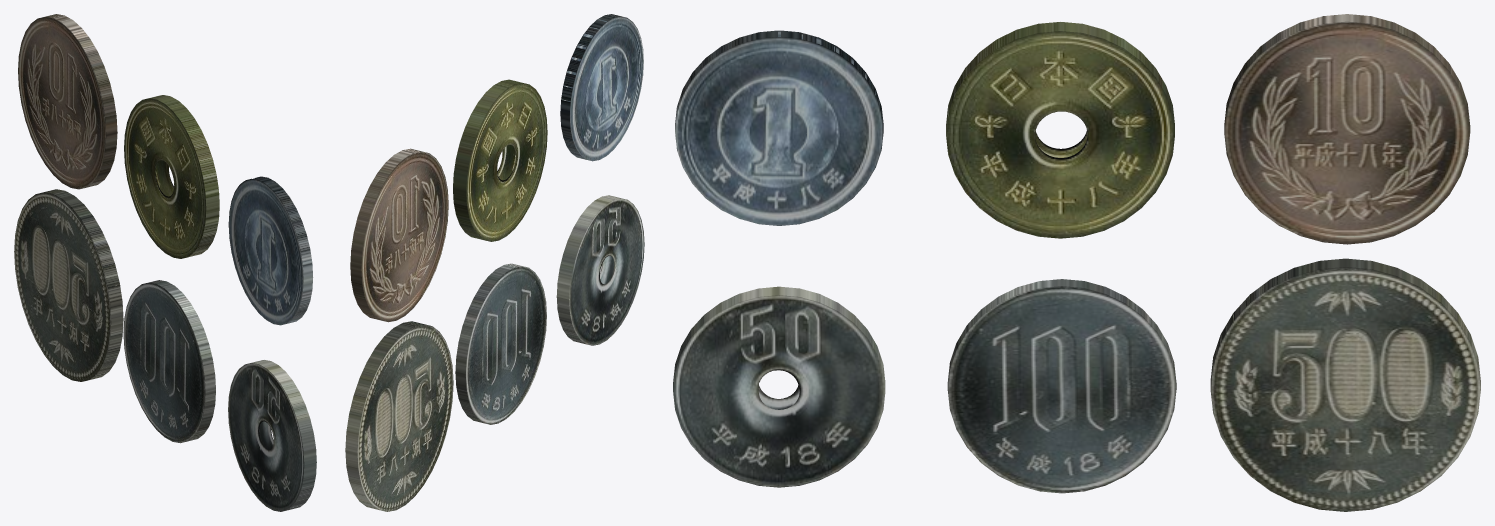
Rendered from Coins.fbx.
3 renders of one model, left to right at view 1: azimuth 30°, elevation 25°; view 2: azimuth 150°, elevation 25°; view 3: azimuth 270°, elevation 25°, orthographic. The views are drawn at different scales.
Parts seen in each view (by area): view 1: Circle.002, Circle.005, Circle.004, Circle.001, Circle, Circle.003; view 2: Circle.002, Circle.005, Circle.004, Circle.001, Circle, Circle.003; view 3: Circle.002, Circle.005, Circle.001, Circle.004, Circle, Circle.003.
Boxes of the visible parts, bbox=[...] form: Circle.002: bbox=[14, 189, 123, 381]; Circle.005: bbox=[18, 14, 117, 189]; Circle.004: bbox=[124, 95, 219, 258]; Circle.001: bbox=[123, 280, 215, 443]; Circle: bbox=[228, 360, 316, 511]; Circle.003: bbox=[228, 176, 313, 325]; Circle.002: bbox=[345, 321, 453, 511]; Circle.005: bbox=[350, 148, 448, 322]; Circle.004: bbox=[453, 79, 547, 241]; Circle.001: bbox=[455, 263, 546, 424]; Circle: bbox=[556, 195, 644, 345]; Circle.003: bbox=[560, 14, 643, 161]; Circle.002: bbox=[1210, 258, 1480, 511]; Circle.005: bbox=[1224, 14, 1470, 244]; Circle.001: bbox=[947, 279, 1176, 493]; Circle.004: bbox=[946, 22, 1174, 238]; Circle: bbox=[673, 286, 885, 487]; Circle.003: bbox=[675, 30, 883, 225].
Bounding box in the file's own units: 49.61 × 1236 × 1848.
1 material, 1 textured.
